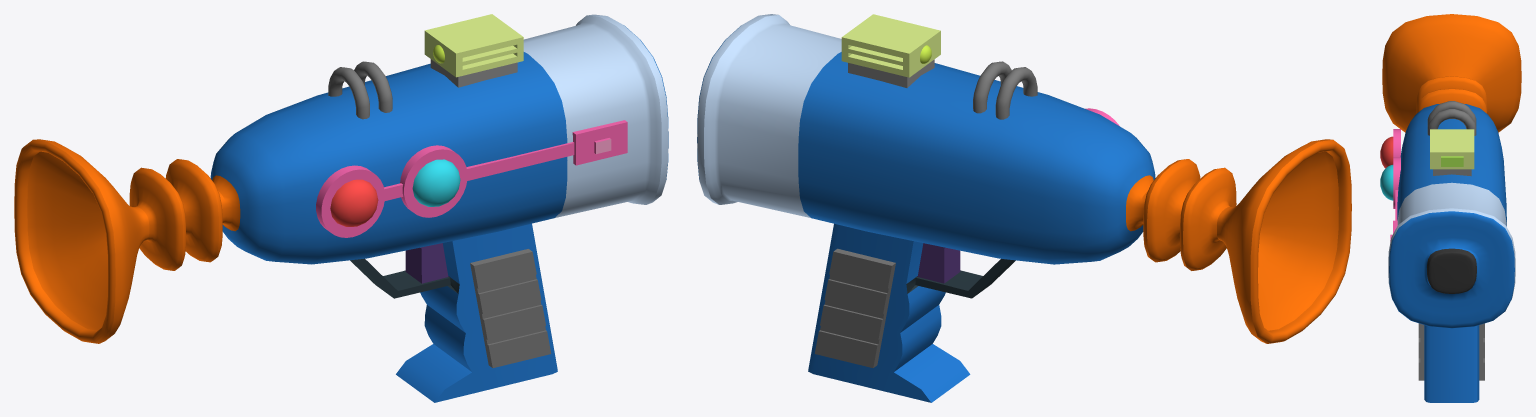
File: Lasergun.fbx
3 views of the same model, side by side, from view 1: azimuth 30°, elevation 25°; view 2: azimuth 150°, elevation 25°; view 3: azimuth 270°, elevation 25° (orthographic). The views are drawn at different scales.
Visible parts, largest first — view 1: Cube, Cube.001, Cube.003, Cube.002, Cube.004, Cylinder, Cylinder.001, Torus, Sphere.001, Sphere.002; view 2: Cube, Cube.001, Cube.003, Cube.002, Torus; view 3: Cube, Cube.001, Cube.002, Torus, Cube.003, Sphere.001, Sphere.002, Cylinder.001, Cylinder, Cube.004.
Part boxes in pixels (<box>): Cube: <box>14,14,668,343</box>; Cube.001: <box>350,223,557,402</box>; Cube.003: <box>470,249,551,367</box>; Cube.002: <box>424,14,523,87</box>; Cube.004: <box>384,120,627,200</box>; Cylinder: <box>316,165,384,237</box>; Cylinder.001: <box>400,145,467,217</box>; Torus: <box>328,61,392,119</box>; Sphere.001: <box>412,159,460,206</box>; Sphere.002: <box>330,179,378,226</box>; Cube: <box>697,14,1351,343</box>; Cube.001: <box>808,223,1015,402</box>; Cube.003: <box>814,248,895,367</box>; Cube.002: <box>841,14,940,87</box>; Torus: <box>973,61,1037,119</box>; Cube: <box>1382,14,1521,328</box>; Cube.001: <box>1424,325,1479,402</box>; Cube.002: <box>1430,129,1474,176</box>; Torus: <box>1427,101,1476,135</box>; Cube.003: <box>1418,323,1484,380</box>; Sphere.001: <box>1380,165,1393,200</box>; Sphere.002: <box>1380,136,1393,168</box>; Cylinder.001: <box>1393,157,1400,208</box>; Cylinder: <box>1393,129,1400,157</box>; Cube.004: <box>1390,190,1398,241</box>.
Size of the model in its own units: 383 by 215 by 115.
